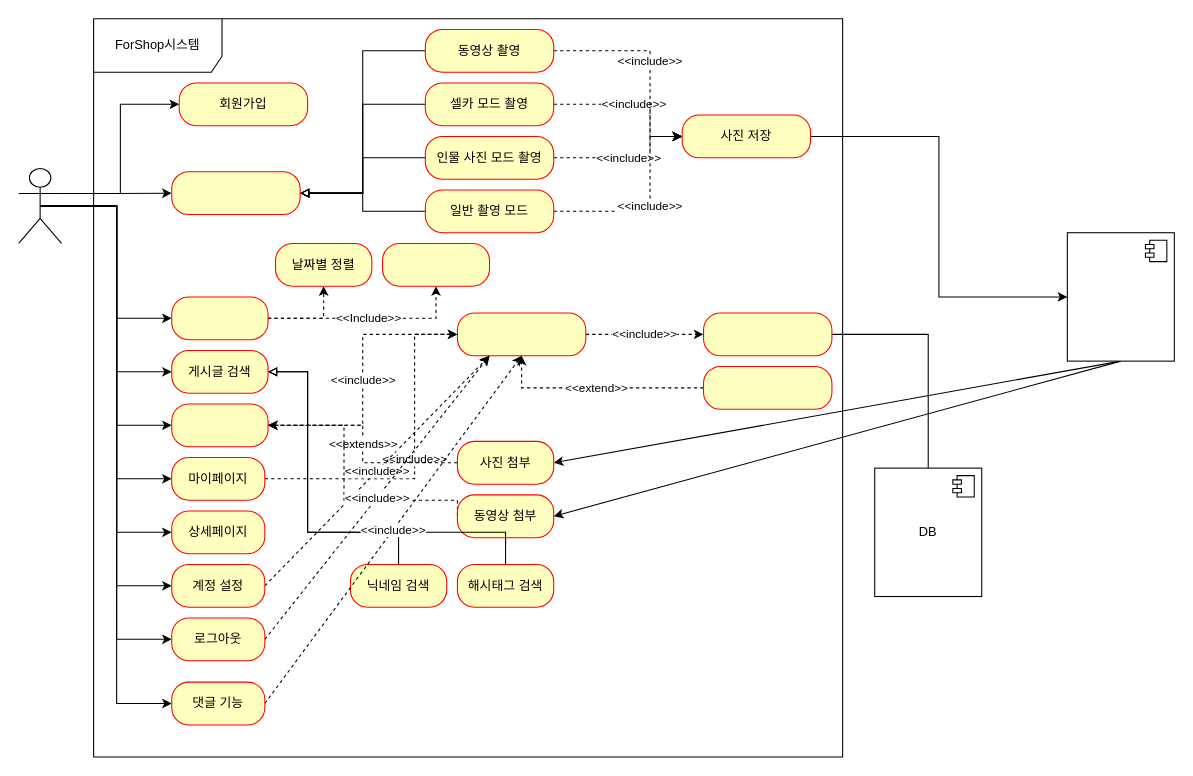
Image size: 1193x776. Some labels were removed from this diagram. The centre of each missing label's shape, as x and y in pixels:
Local Storage: point (1120, 296)
게시글 작성: point (219, 425)
게시글 조회: point (219, 318)
로그인 실패: point (767, 387)
이용자: point (40, 205)
인증: point (767, 334)
좋아요, 조회수 정렬: point (435, 264)
촬영 기능: point (235, 193)
회원 로그인: point (521, 334)
